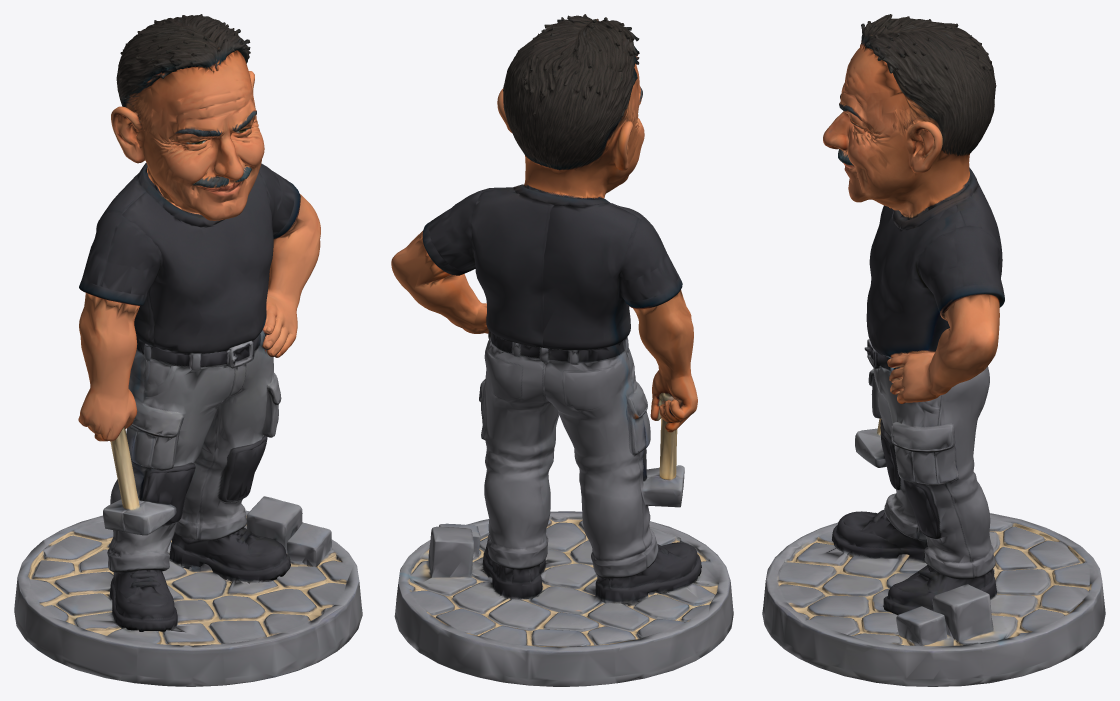
File: handwerker-farbe.glb
3 renders of one model, left to right at view 1: azimuth 30°, elevation 25°; view 2: azimuth 150°, elevation 25°; view 3: azimuth 270°, elevation 25°, orthographic. The views are drawn at different scales.
Size of the model in its own units: 0.5185 by 0.9797 by 0.5192.
Materials: 1 (1 with a texture image).
